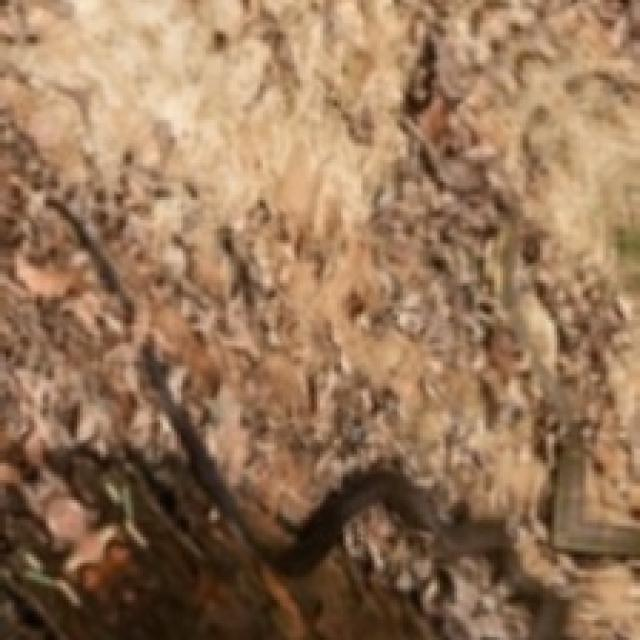king cobra: (0, 0, 637, 637), (134, 340, 443, 577)
